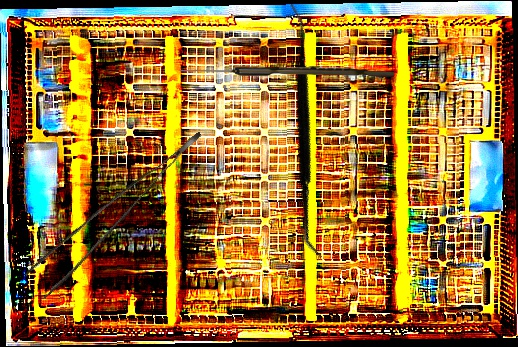Spatula Surgical: (188, 1, 424, 261)
Surgical Spoon: (180, 66, 394, 77)
Tissue Forceps: (17, 131, 225, 300)
